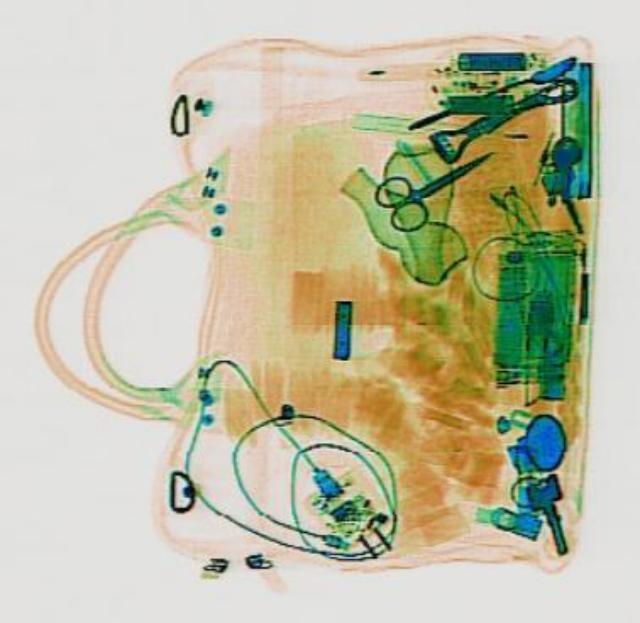Scissors: (362, 127, 510, 237)
